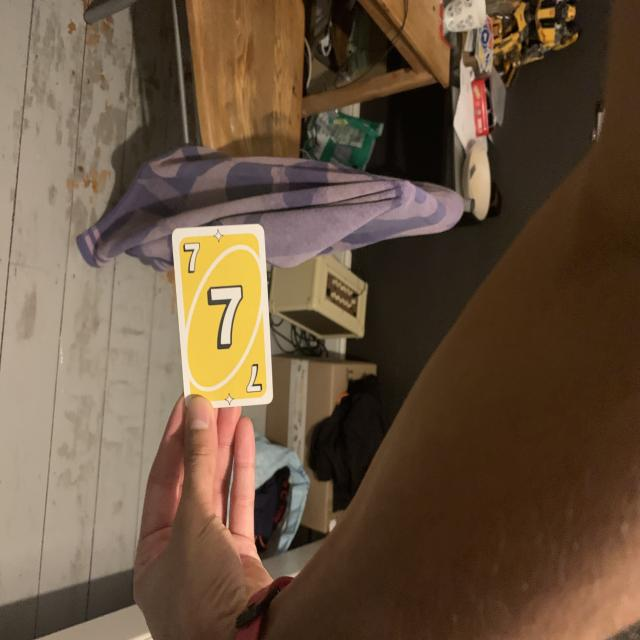lyellow-7: (180, 238, 204, 277)
